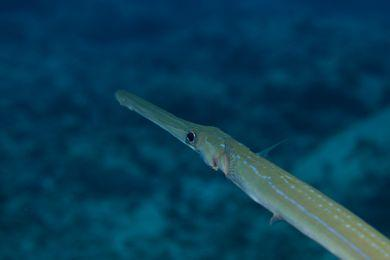Fistularia commersonii: (113, 87, 389, 259)
